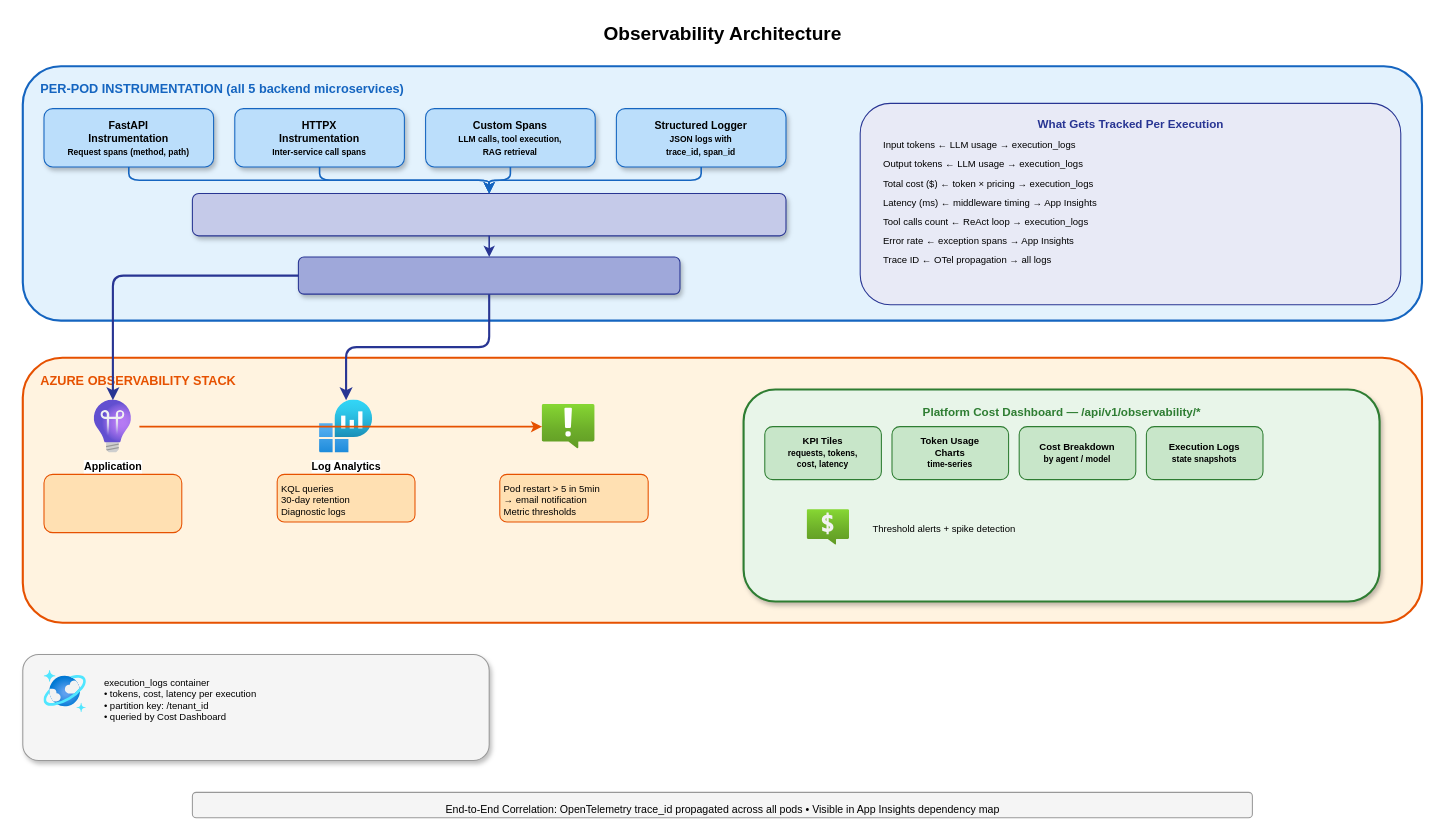
Some shapes in this 1442 by 836 pixel diagram are drawn without their labels. Here are the shapes that lost their labels. From the top down, the centre of each, then its label:
(489,215): OpenTelemetry SDK
(489,277): Azure Monitor Exporter
(568,426): Monitor Alerts
(112,503): APM Dependency map Exception tracking Live metrics
(828,527): Budget Alerts
(64,691): Cosmos DB
